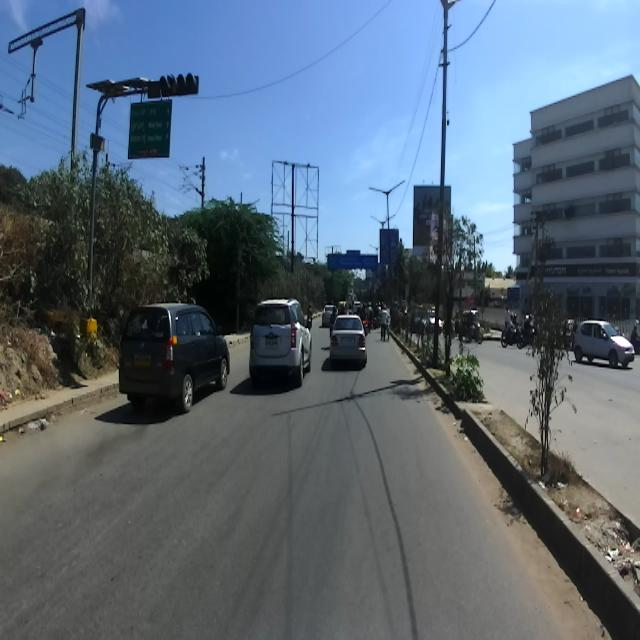car ahead at: (115, 285, 232, 428), (242, 289, 316, 395), (322, 306, 373, 372)
traffic signal ahead at: (81, 61, 208, 109)
